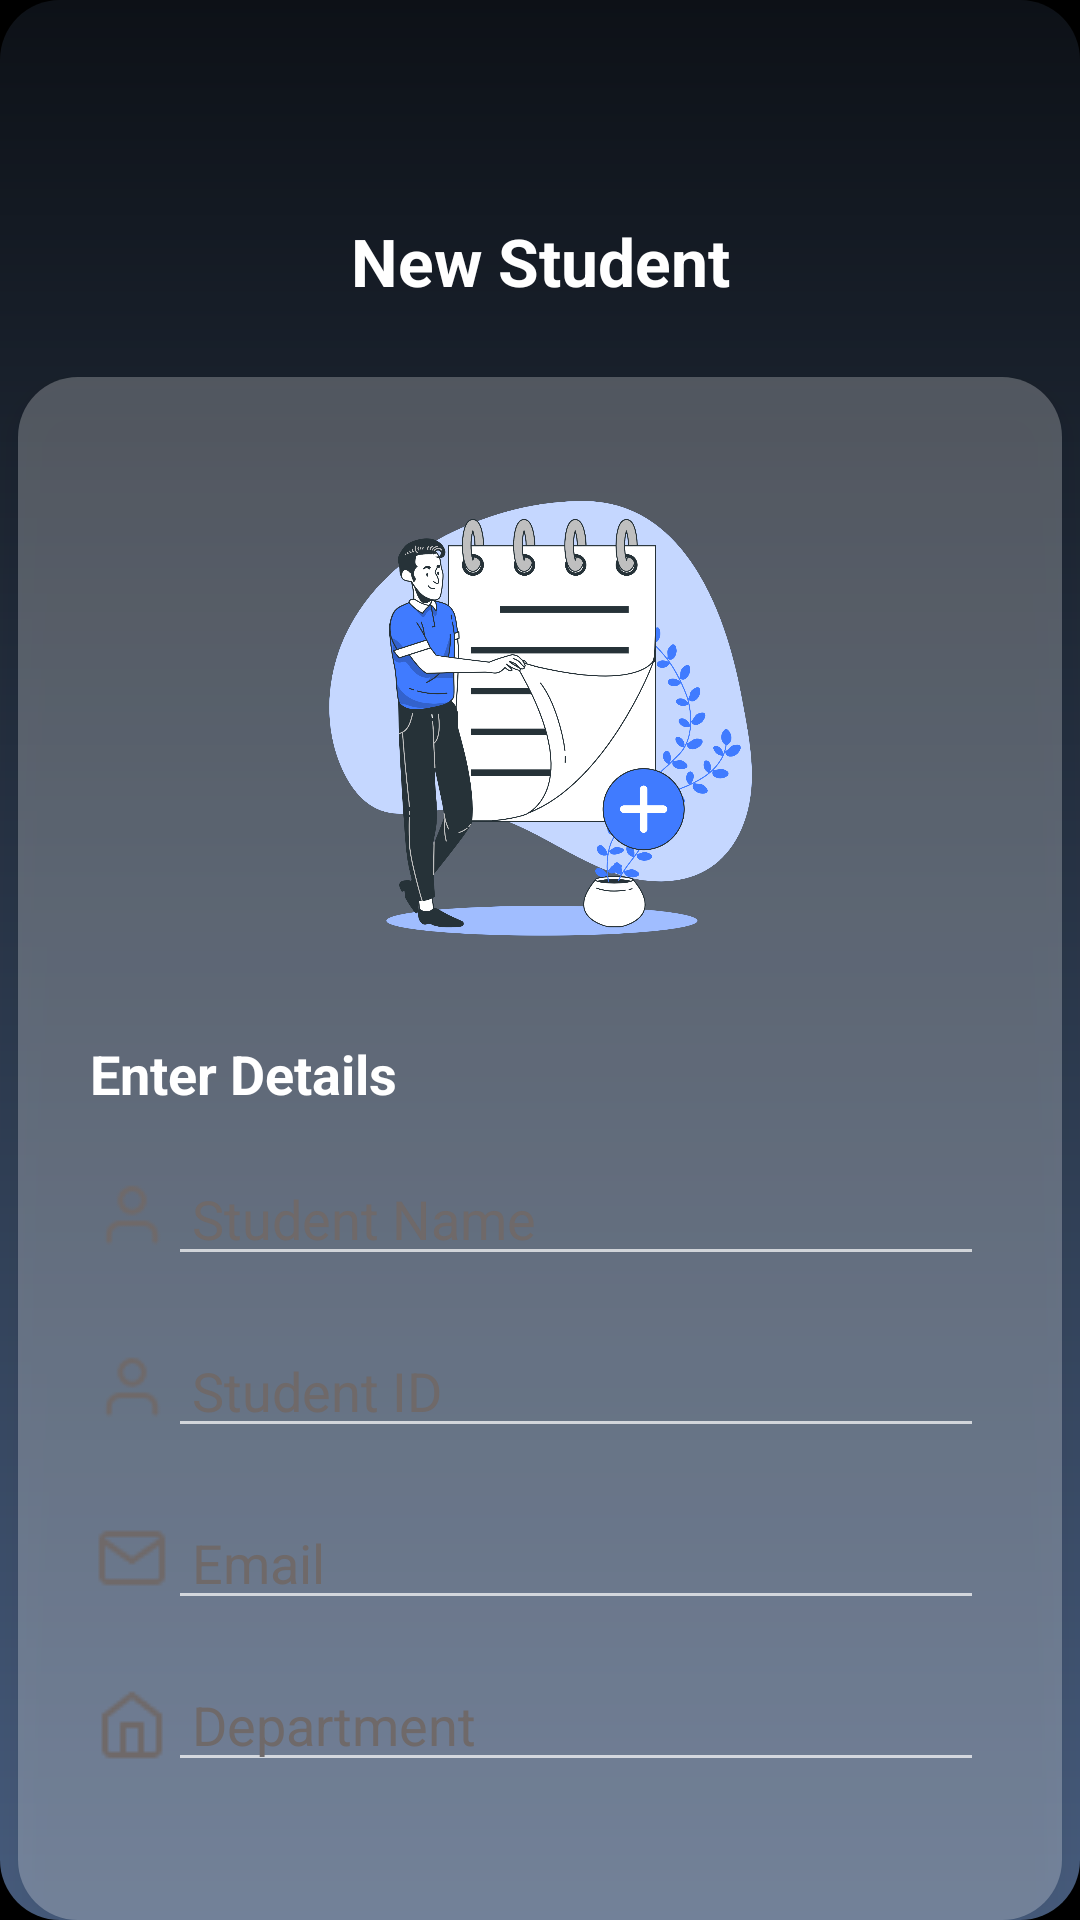

Point at icon controls on the screen. Image size 1080w x 1920h, points as (x,y).
home: (132,1725)
